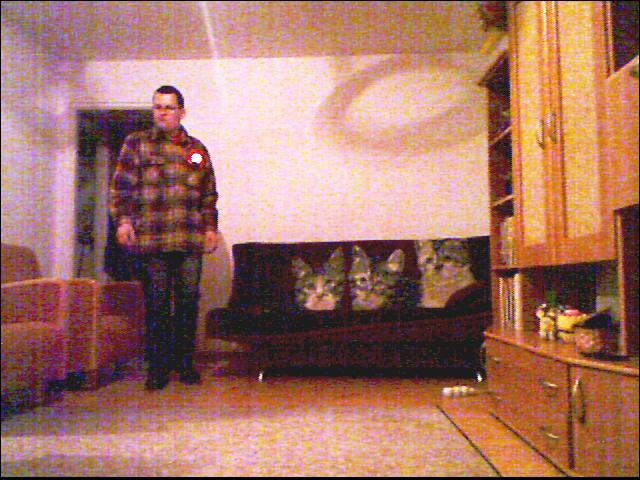walking: (92, 64, 237, 388)
